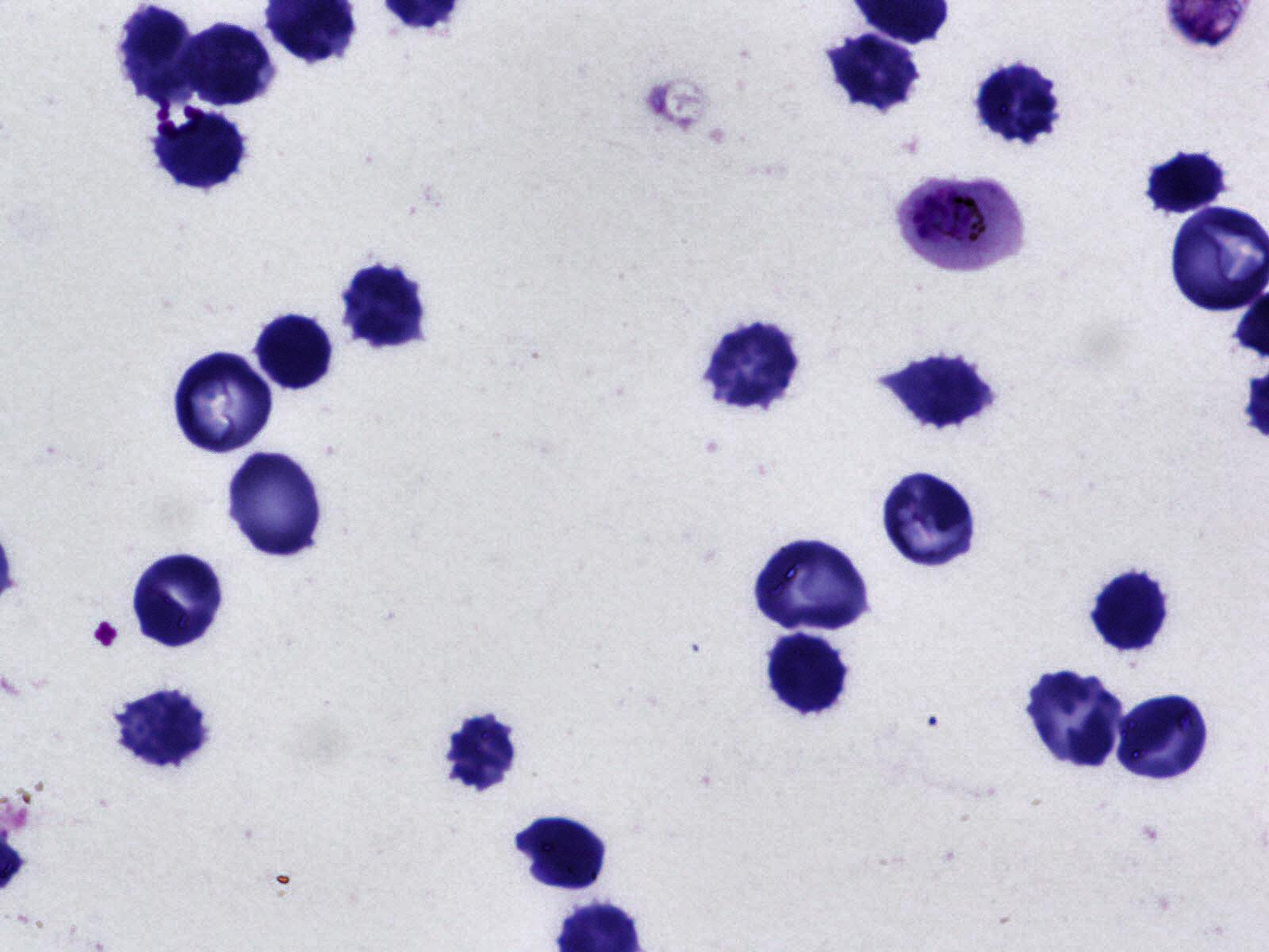Infected: (898, 179, 1024, 271)
Uninfected: (754, 540, 868, 633), (174, 351, 272, 453), (228, 451, 323, 555), (1030, 669, 1124, 770), (881, 470, 976, 567), (706, 319, 801, 412), (135, 558, 220, 658), (1114, 695, 1210, 783), (891, 353, 996, 430), (159, 106, 250, 189), (187, 24, 279, 105), (828, 30, 921, 110), (519, 816, 610, 896), (117, 690, 210, 768), (123, 6, 197, 103), (976, 63, 1060, 146), (769, 632, 849, 718), (345, 266, 425, 350), (1094, 573, 1171, 654), (446, 712, 521, 793), (1148, 147, 1229, 215), (258, 318, 332, 389)
